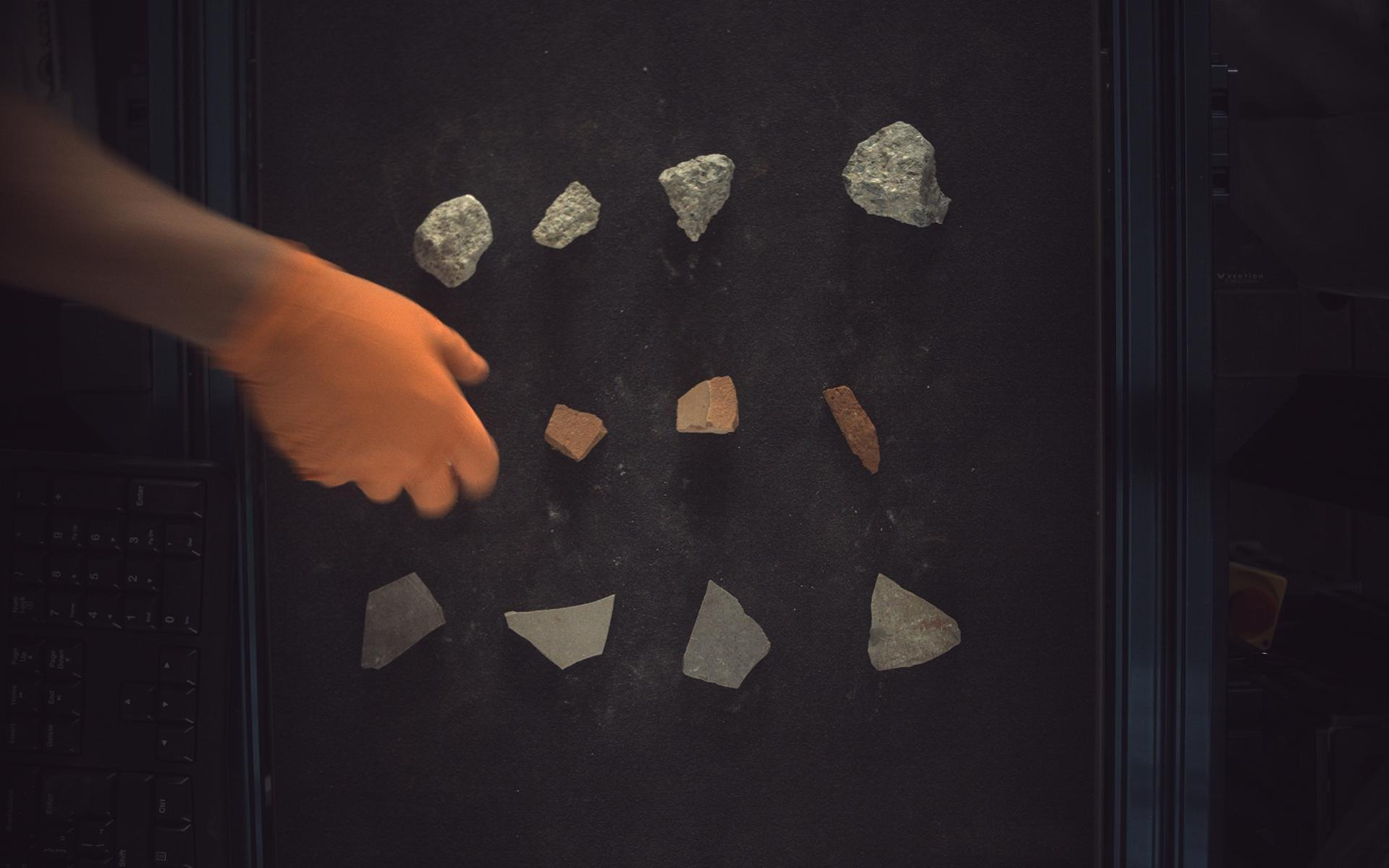brick: (825, 385, 882, 473), (677, 376, 740, 434), (545, 404, 608, 461)
concrete: (844, 120, 952, 226), (414, 193, 493, 287), (660, 153, 736, 241), (533, 180, 601, 248)
tile: (684, 582, 772, 690), (870, 574, 963, 671), (361, 573, 446, 671), (505, 596, 616, 670)
